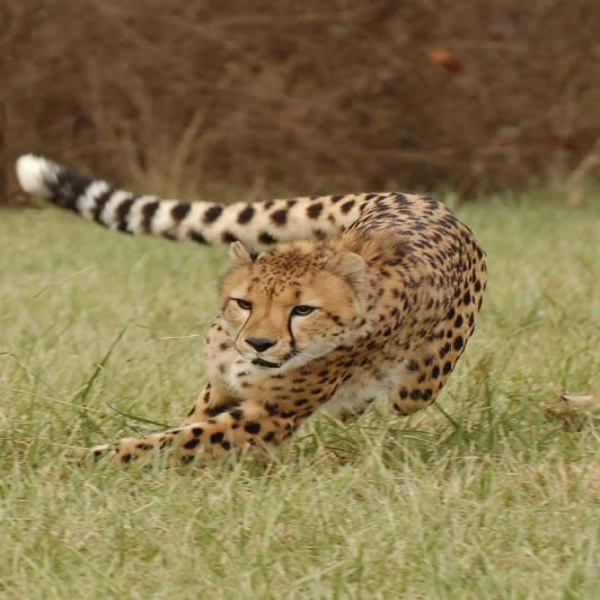Cheetah: (11, 147, 491, 466)
